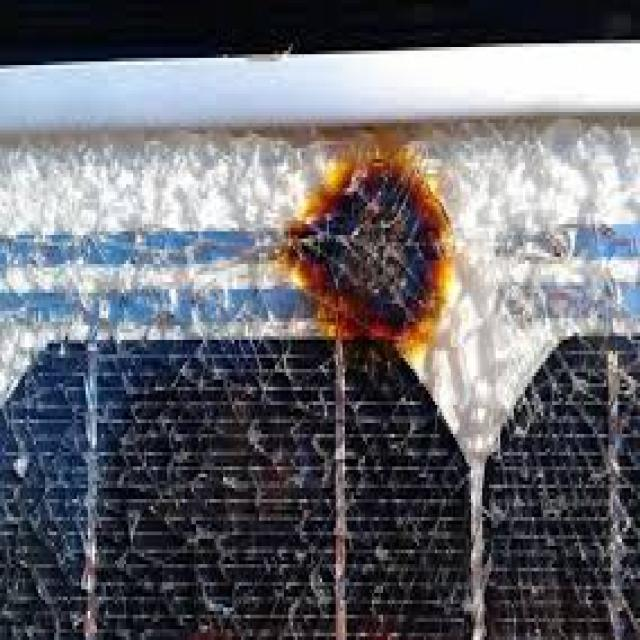faulty: (11, 83, 640, 640)
